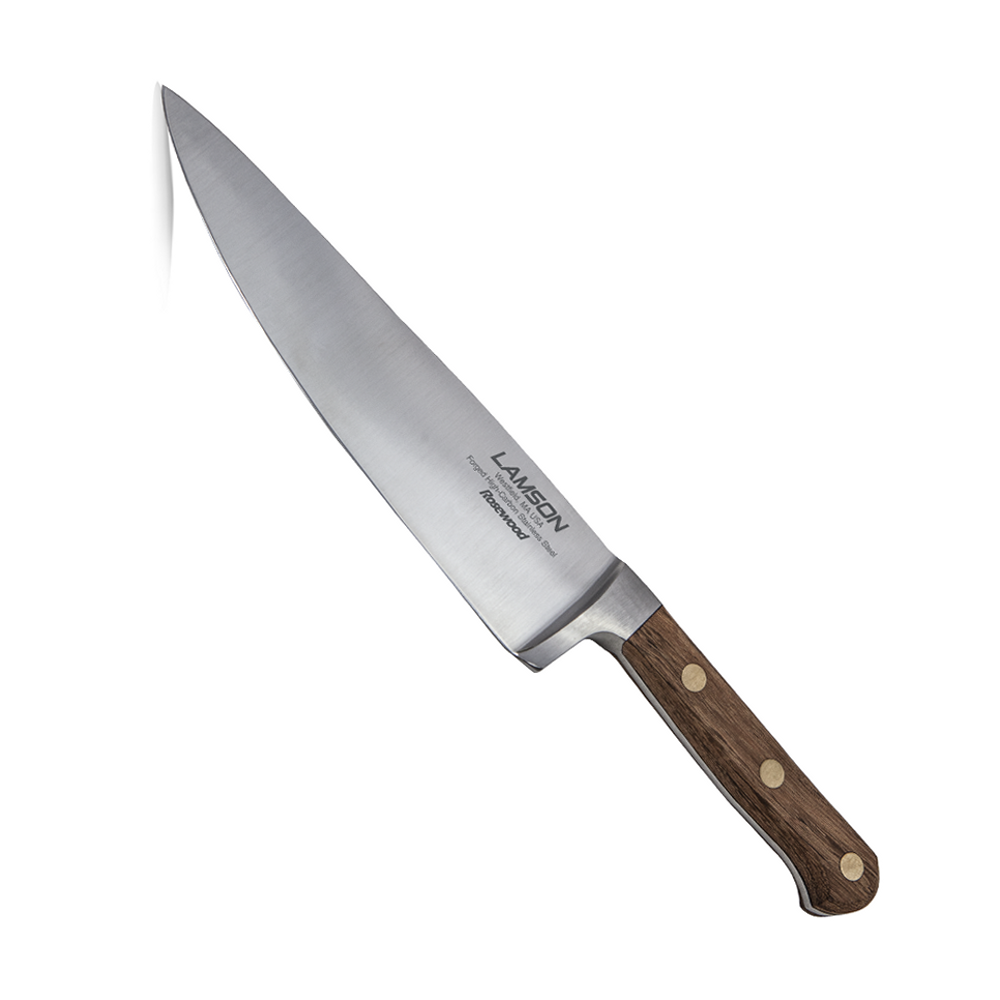knife: (162, 86, 883, 915)
